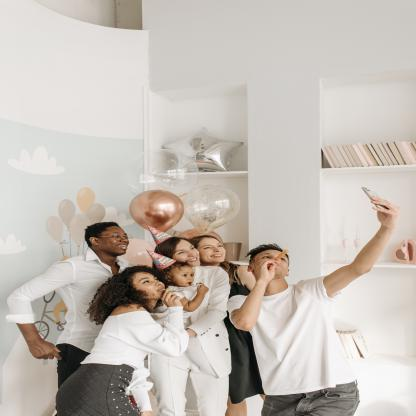Eye: (140, 279, 150, 284), (111, 234, 120, 239), (203, 245, 212, 250), (177, 251, 186, 255), (123, 235, 130, 240), (188, 247, 195, 251), (181, 274, 188, 278), (154, 278, 161, 282), (262, 256, 271, 259), (216, 244, 222, 248), (280, 258, 286, 262), (189, 273, 193, 277)
Mouth: (185, 257, 199, 262), (116, 244, 129, 249), (211, 253, 223, 258), (157, 287, 166, 292), (186, 282, 193, 284)
Nose: (153, 281, 164, 287), (188, 250, 196, 258), (120, 238, 130, 244), (213, 246, 221, 253), (187, 275, 192, 280)
